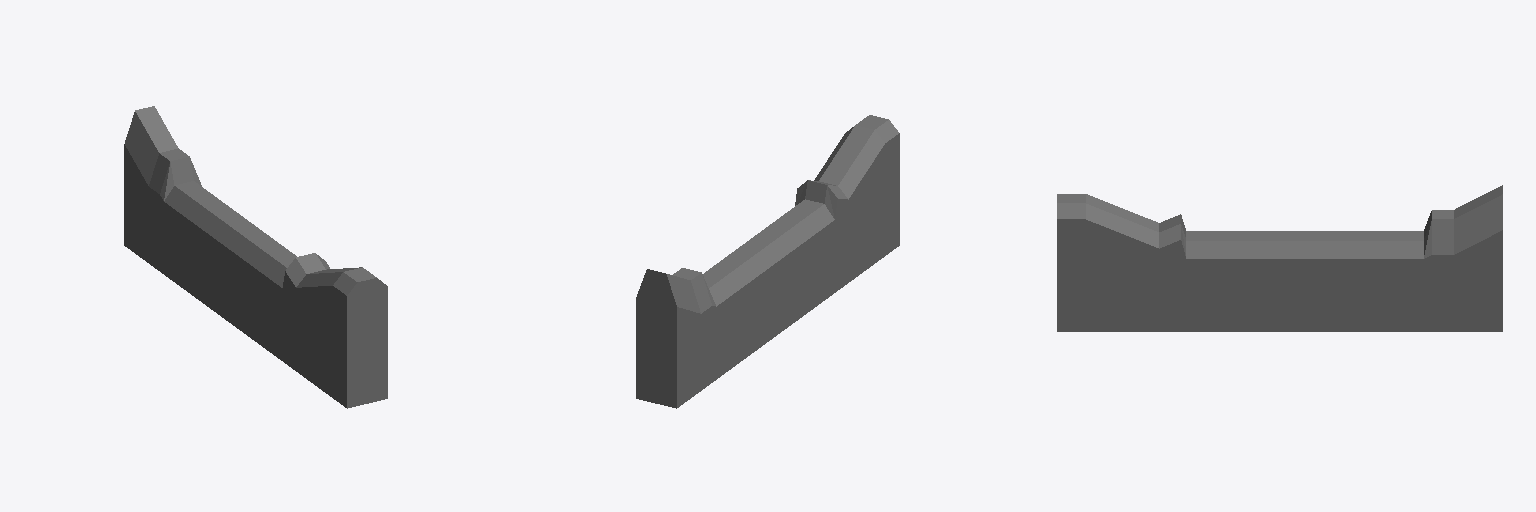
The model's file is pillarL.obj.
3 renders of one model, left to right at view 1: azimuth 30°, elevation 25°; view 2: azimuth 150°, elevation 25°; view 3: azimuth 270°, elevation 25°, orthographic.
Parts seen in each view (by area): view 1: pillar_low:Mesh; view 2: pillar_low:Mesh; view 3: pillar_low:Mesh.
Part boxes in pixels (bbox=[...]): pillar_low:Mesh: bbox=[124, 106, 387, 408]; pillar_low:Mesh: bbox=[636, 115, 899, 408]; pillar_low:Mesh: bbox=[1057, 185, 1502, 331].
Size of the model in its own units: 2 by 6.26 by 19.04.